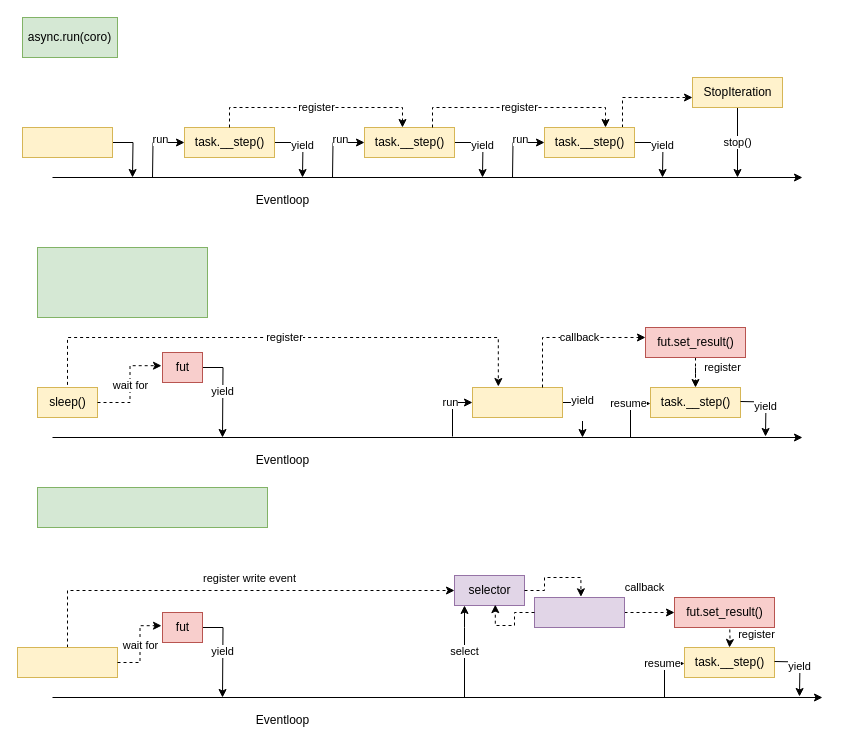
This 848x753 diagram has some shape labels left out. The shapes that lost their labels are listed below. From the top down, each one's centre as x and y in pixels, then its label:
pixel 67 142: create_task()
pixel 122 282: async def foo(): ... await asyncio.sleep(dur) ...
pixel 517 402: timed_event
pixel 152 507: async def foo(): await asyncio.sock_sendall(sock, msg)
pixel 579 612: sock.send()
pixel 67 662: sock_sendall()
